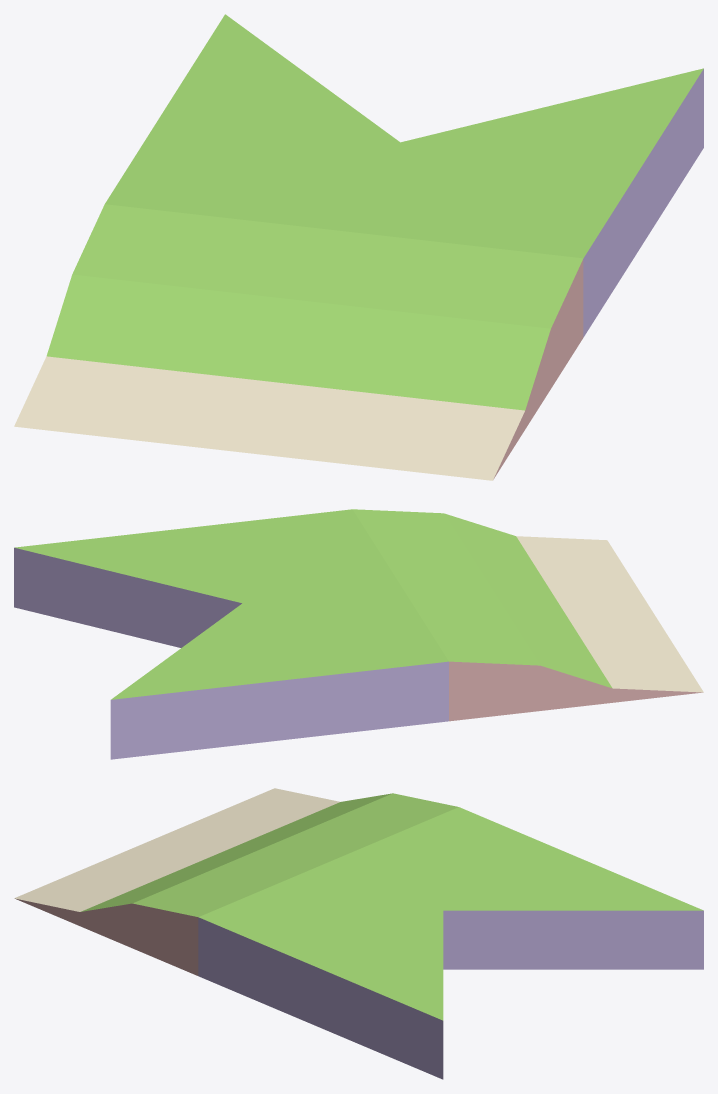
File: Path_Fence_Straight_1x1.001.fbx
The picture shows the model from 3 angles, top to bottom: view 1: azimuth 30°, elevation 25°; view 2: azimuth 150°, elevation 25°; view 3: azimuth 270°, elevation 25°; orthographic projection. The views are drawn at different scales.
Parts seen in each view (by area): view 1: Path_Fence_Straight_1x1.001; view 2: Path_Fence_Straight_1x1.001; view 3: Path_Fence_Straight_1x1.001.
Boxes of the visible parts, <box> form: Path_Fence_Straight_1x1.001: <box>14,14,703,480</box>; Path_Fence_Straight_1x1.001: <box>14,509,703,759</box>; Path_Fence_Straight_1x1.001: <box>14,788,703,1079</box>.
Size of the model in its own units: 265 by 25 by 265.
